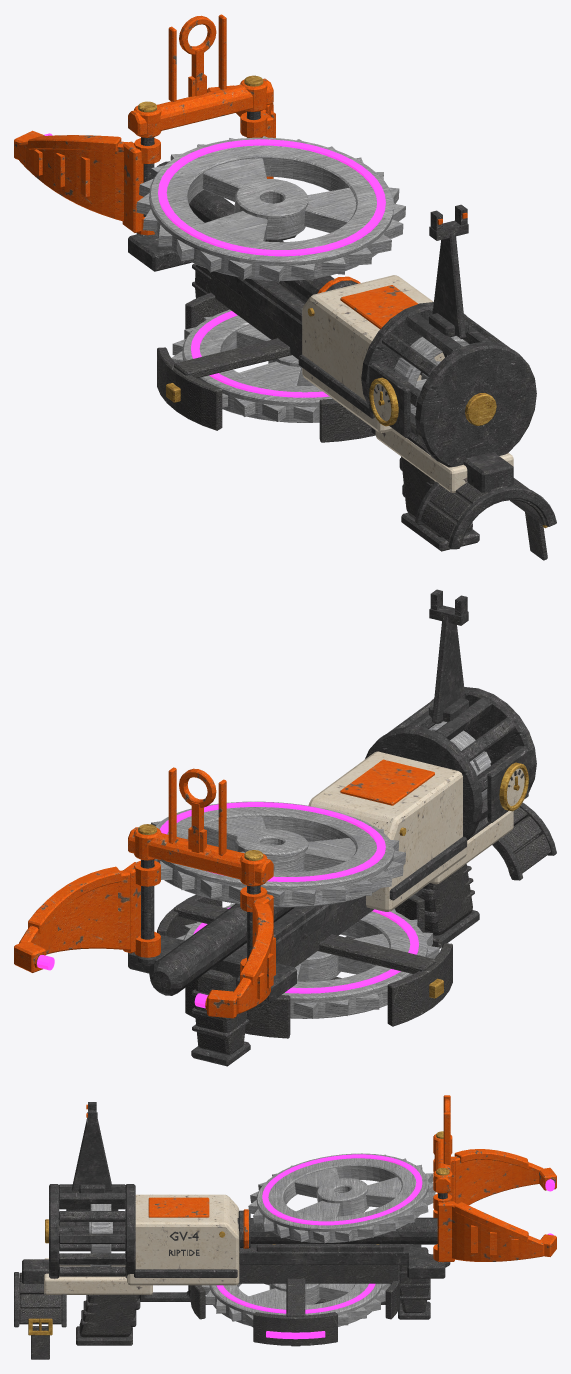
The model's file is skua.gltf.
3 views of the same model, one above another, from view 1: azimuth 30°, elevation 25°; view 2: azimuth 150°, elevation 25°; view 3: azimuth 270°, elevation 25° (orthographic). The views are drawn at different scales.
Visible parts, largest first — view 1: body, mag, horn left | orange paint, spare disc | blade steel, spare disc | polished edge, spare disc | razor glow, bolt, horn right | orange paint; view 2: body, mag, horn right | orange paint, spare disc | blade steel, horn left | orange paint, spare disc | polished edge, spare disc | razor glow, bolt; view 3: body, mag, horn right | orange paint, horn left | orange paint, spare disc | blade steel, spare disc | polished edge, spare disc | razor glow, bolt, trigger.
Boxes of the visible parts, x1,y1,x2,y2 form: body: (128,14,556,560); mag: (136,136,405,282); horn left | orange paint: (14,130,160,235); spare disc | blade steel: (182,309,331,422); spare disc | polished edge: (171,316,317,422); spare disc | razor glow: (191,311,329,397); bolt: (394,336,469,415); horn right | orange paint: (207,85,275,178); body: (128,589,556,1066); mag: (151,801,405,907); horn right | orange paint: (14,860,160,972); spare disc | blade steel: (183,903,427,1018); horn left | orange paint: (205,886,275,1018); spare disc | polished edge: (176,903,439,1018); spare disc | razor glow: (193,907,418,993); bolt: (428,721,491,800); body: (14,1095,452,1359); mag: (248,1153,435,1243); horn right | orange paint: (433,1193,556,1262); horn left | orange paint: (433,1149,556,1217); spare disc | blade steel: (209,1283,382,1326); spare disc | polished edge: (201,1283,390,1327); spare disc | razor glow: (216,1283,375,1313); bolt: (89,1204,112,1266); trigger: (139,1285,190,1301).
Bounding box in the file's own units: 0.252 × 0.3065 × 0.6274.
8 materials, 7 textured.
